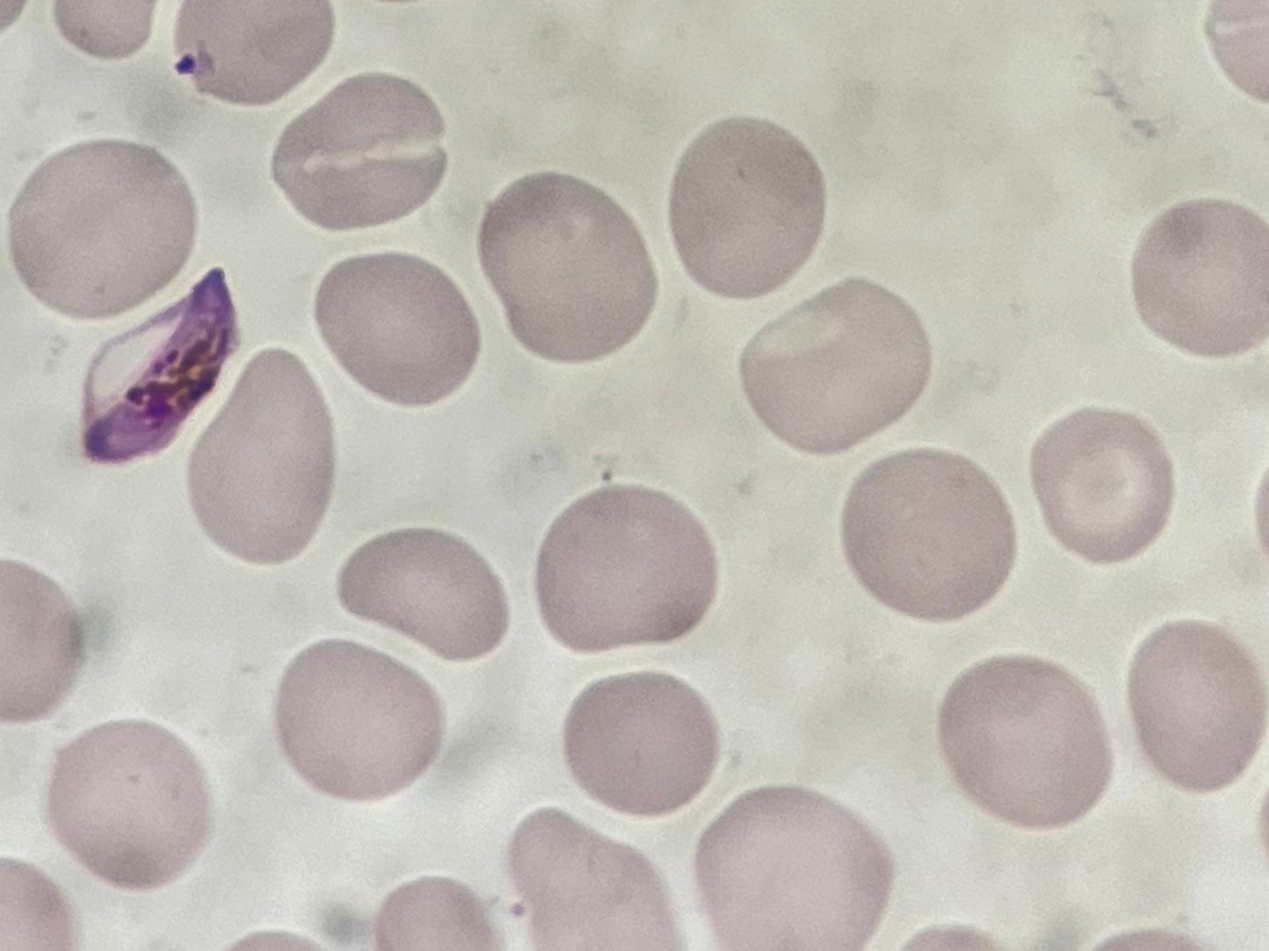Infected: (79, 263, 244, 465), (169, 0, 336, 108)
Uninfected: (7, 137, 199, 321), (742, 275, 935, 456), (479, 167, 658, 362), (691, 785, 893, 951), (185, 349, 335, 568), (940, 651, 1116, 830), (535, 481, 718, 653), (843, 448, 1020, 622), (50, 716, 219, 892), (668, 114, 826, 302), (274, 68, 445, 234), (276, 636, 441, 799), (504, 803, 684, 951), (314, 250, 479, 407), (1125, 617, 1269, 791), (560, 669, 720, 819), (339, 527, 510, 666), (1127, 195, 1269, 359), (1028, 408, 1178, 561)
